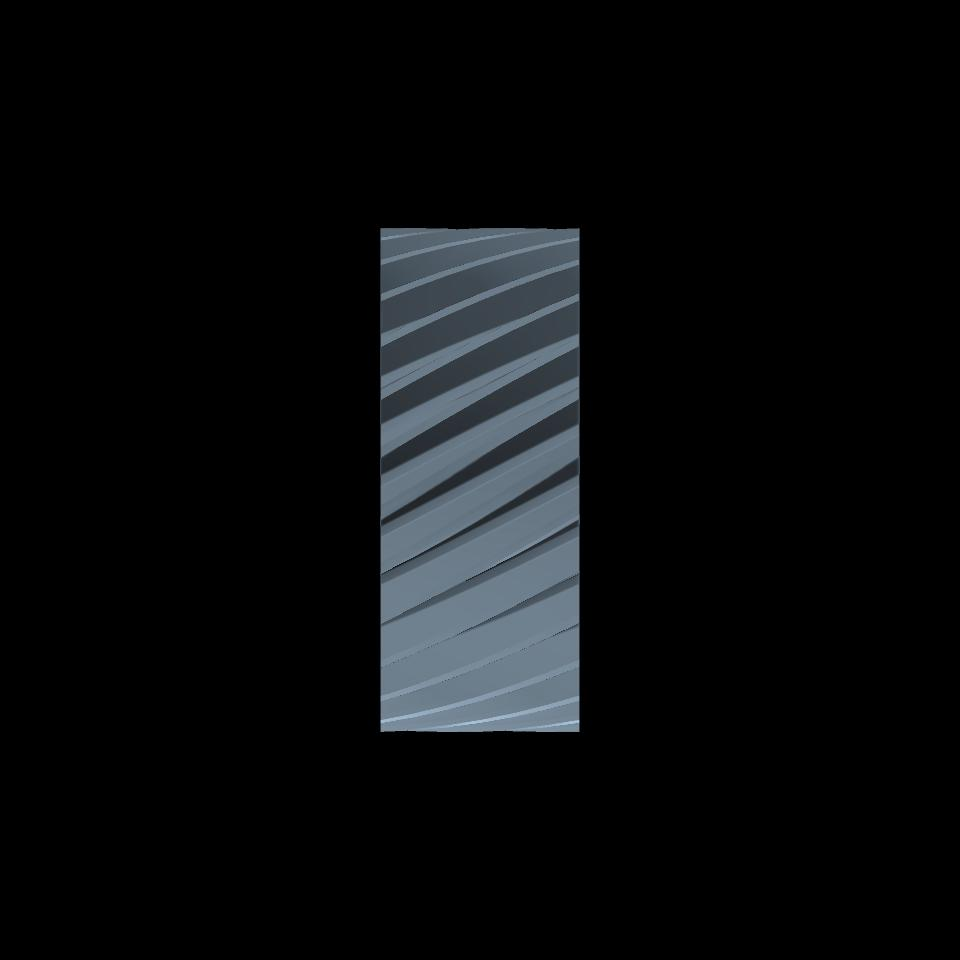Helical: (379, 227, 580, 731)
